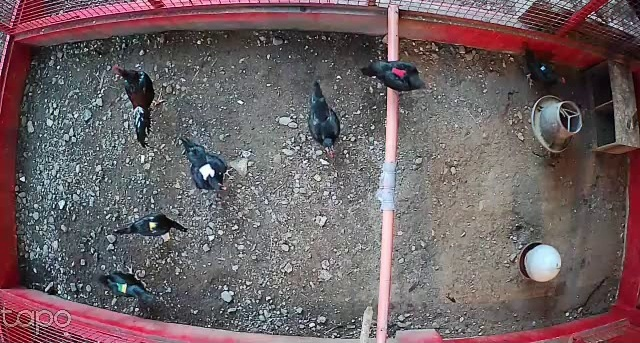Chicken: (176, 132, 229, 197), (308, 80, 345, 163), (110, 209, 189, 246), (102, 263, 162, 309), (360, 59, 428, 92)
Rooster: (110, 63, 173, 150)
Saddle_Color_Red: (390, 68, 406, 80)
Saddle_Color_White: (199, 164, 213, 180)
Saddle_Color_Yellow: (151, 218, 156, 232)
Saddle_Color_YellowGreen: (117, 282, 128, 293)
